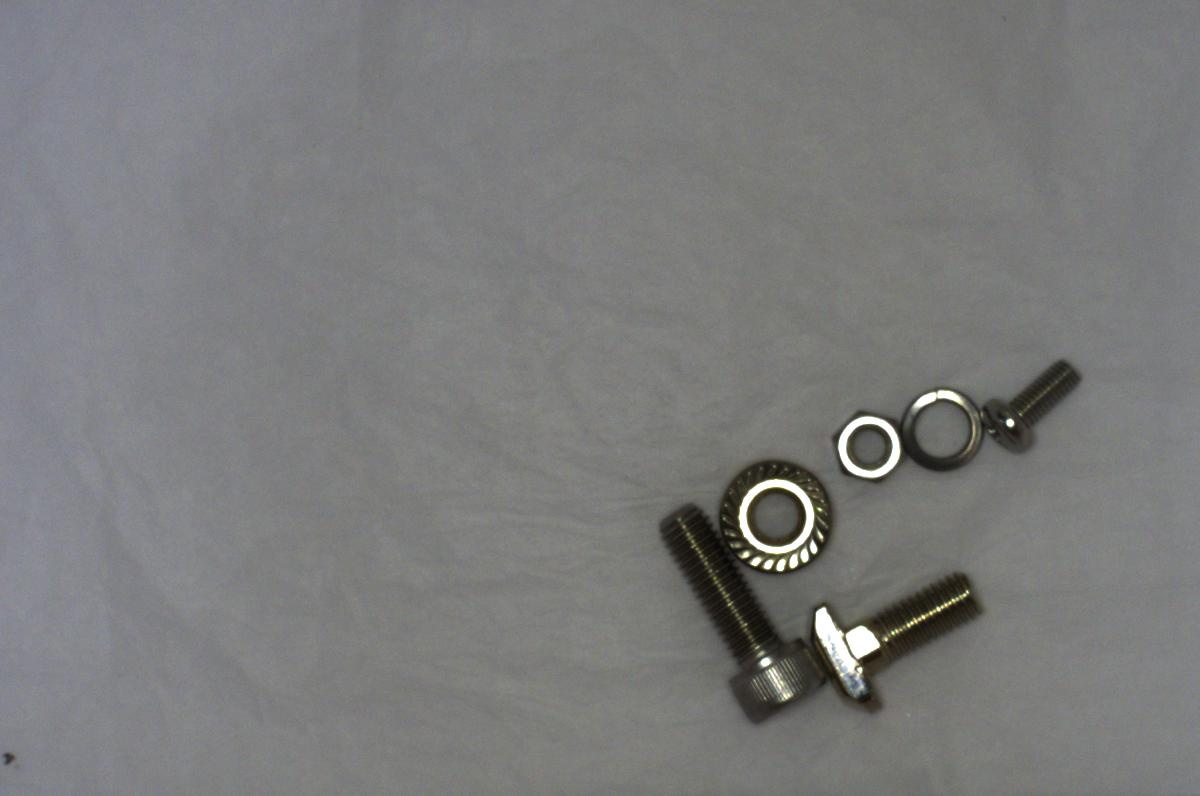Flange nut: (711, 440, 843, 578)
Hexagon nut: (826, 396, 905, 485)
Hexagon screw: (656, 492, 824, 727)
Round head screw: (982, 332, 1093, 472)
Spring washer: (900, 381, 989, 483)
T-shaped screw: (803, 568, 991, 719)
